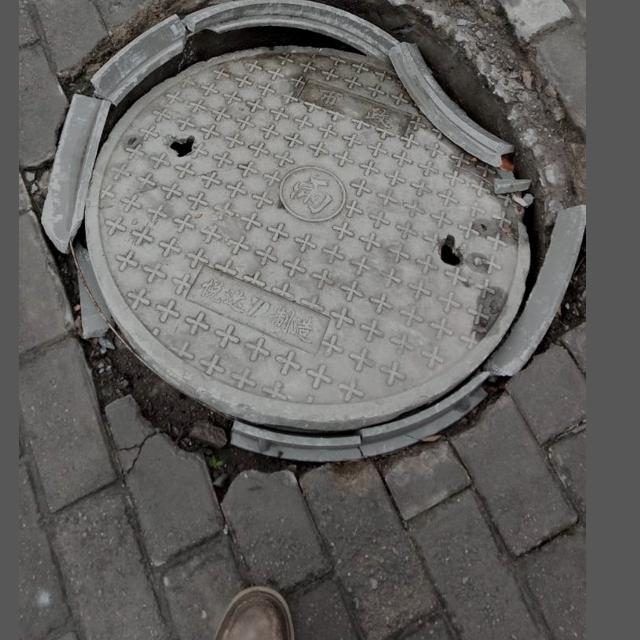circle: (26, 0, 580, 489)
